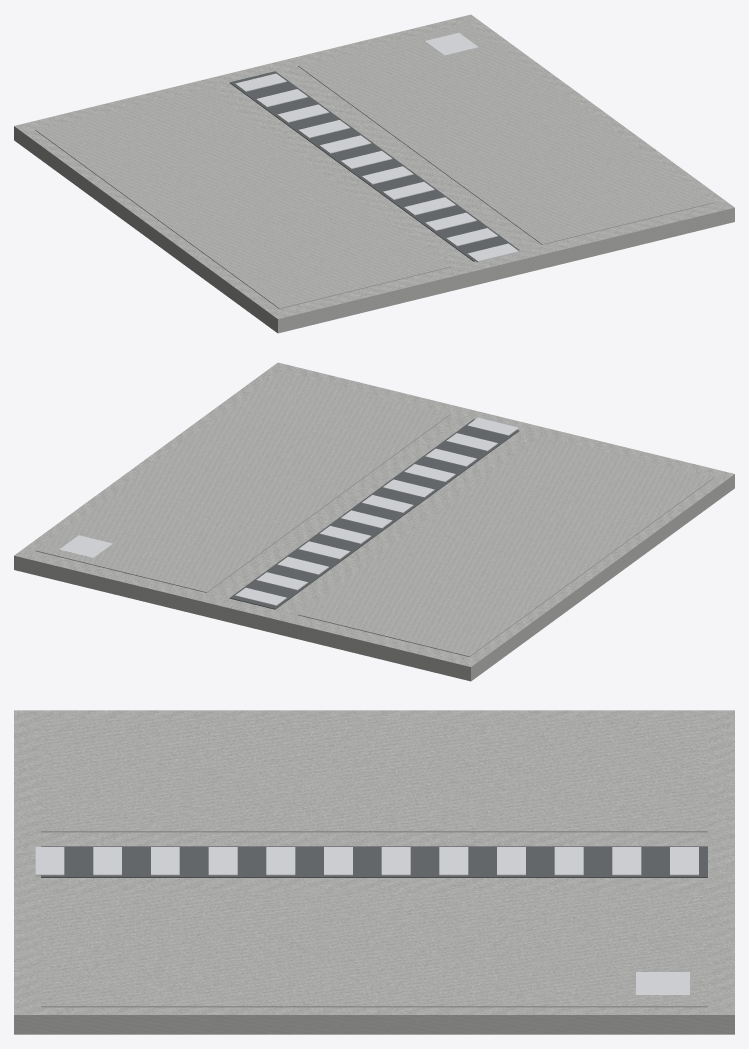
File: fish-market-and-trawler-quay-fish-market-and-trawler-q-2f36f6a9__37282.glb
3 views of the same model, one above another, from view 1: azimuth 30°, elevation 25°; view 2: azimuth 150°, elevation 25°; view 3: azimuth 270°, elevation 25° (orthographic). The views are drawn at different scales.
Visible parts, largest first — view 1: fish-market-and-trawler-quay-market-floor-module; view 2: fish-market-and-trawler-quay-market-floor-module; view 3: fish-market-and-trawler-quay-market-floor-module.
Boxes of the visible parts, x1=… form: fish-market-and-trawler-quay-market-floor-module: x1=14, y1=14, x2=734, y2=333; fish-market-and-trawler-quay-market-floor-module: x1=14, y1=362, x2=734, y2=681; fish-market-and-trawler-quay-market-floor-module: x1=14, y1=710, x2=734, y2=1034.
Bounding box in the file's own units: 4 × 0.1316 × 4.
Materials: 3 (1 with a texture image).
